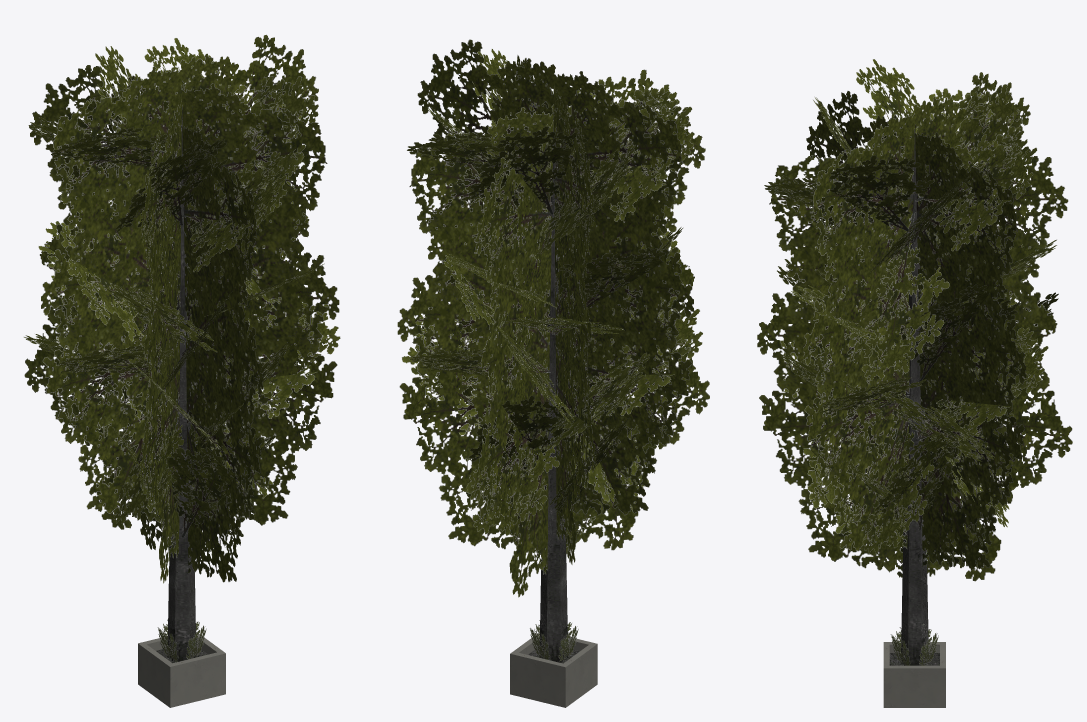
Rendered from tree_3.fbx.
3 renders of one model, left to right at view 1: azimuth 30°, elevation 25°; view 2: azimuth 150°, elevation 25°; view 3: azimuth 270°, elevation 25°, orthographic. The views are drawn at different scales.
Parts seen in each view (by area): view 1: tree_3; view 2: tree_3; view 3: tree_3.
Boxes of the visible parts, <box> form: tree_3: <box>24,34,340,707</box>; tree_3: <box>397,39,709,707</box>; tree_3: <box>757,59,1072,707</box>.
Bounding box in the file's own units: 534 × 1083 × 523.
